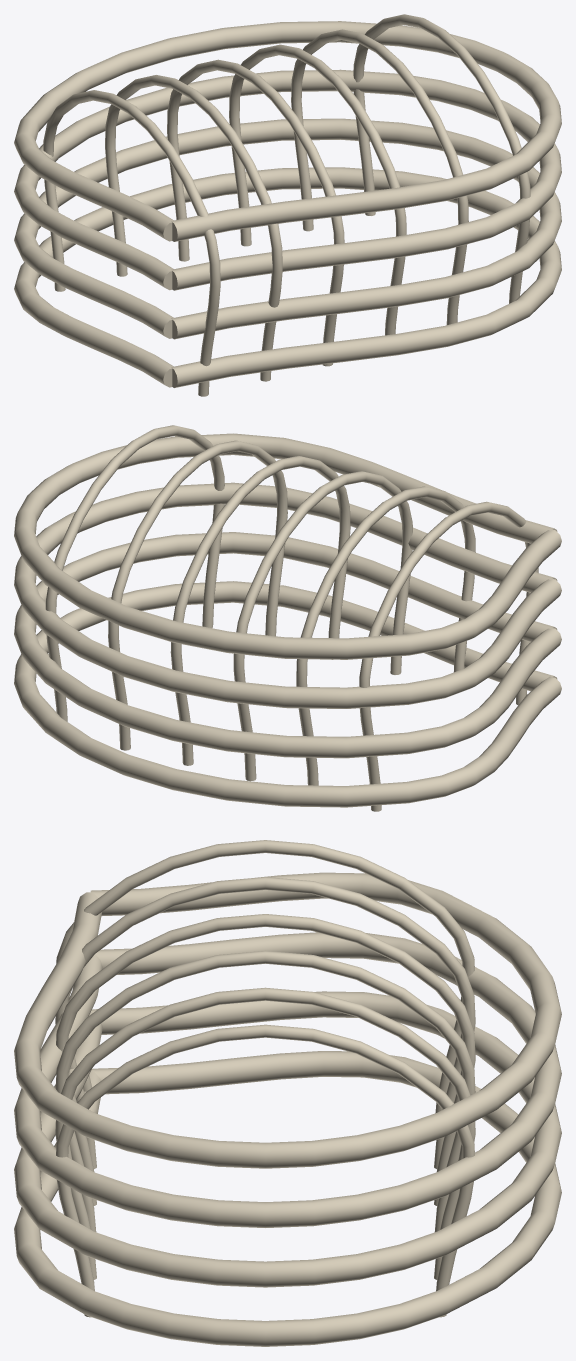
Rendered from sku_v23_storage_basket.glb.
3 views of the same model, one above another, from view 1: azimuth 30°, elevation 25°; view 2: azimuth 150°, elevation 25°; view 3: azimuth 270°, elevation 25° (orthographic). The views are drawn at different scales.
Visible parts, largest first — view 1: sku_v23_storage_basket_V23_natural_canvas; view 2: sku_v23_storage_basket_V23_natural_canvas; view 3: sku_v23_storage_basket_V23_natural_canvas.
Part boxes in pixels (box(x1,y1,x2,y2)): sku_v23_storage_basket_V23_natural_canvas: box(14, 14, 561, 396); sku_v23_storage_basket_V23_natural_canvas: box(14, 425, 561, 811); sku_v23_storage_basket_V23_natural_canvas: box(14, 840, 561, 1346).
Size of the model in its own units: 0.3045 by 0.146 by 0.2508.
